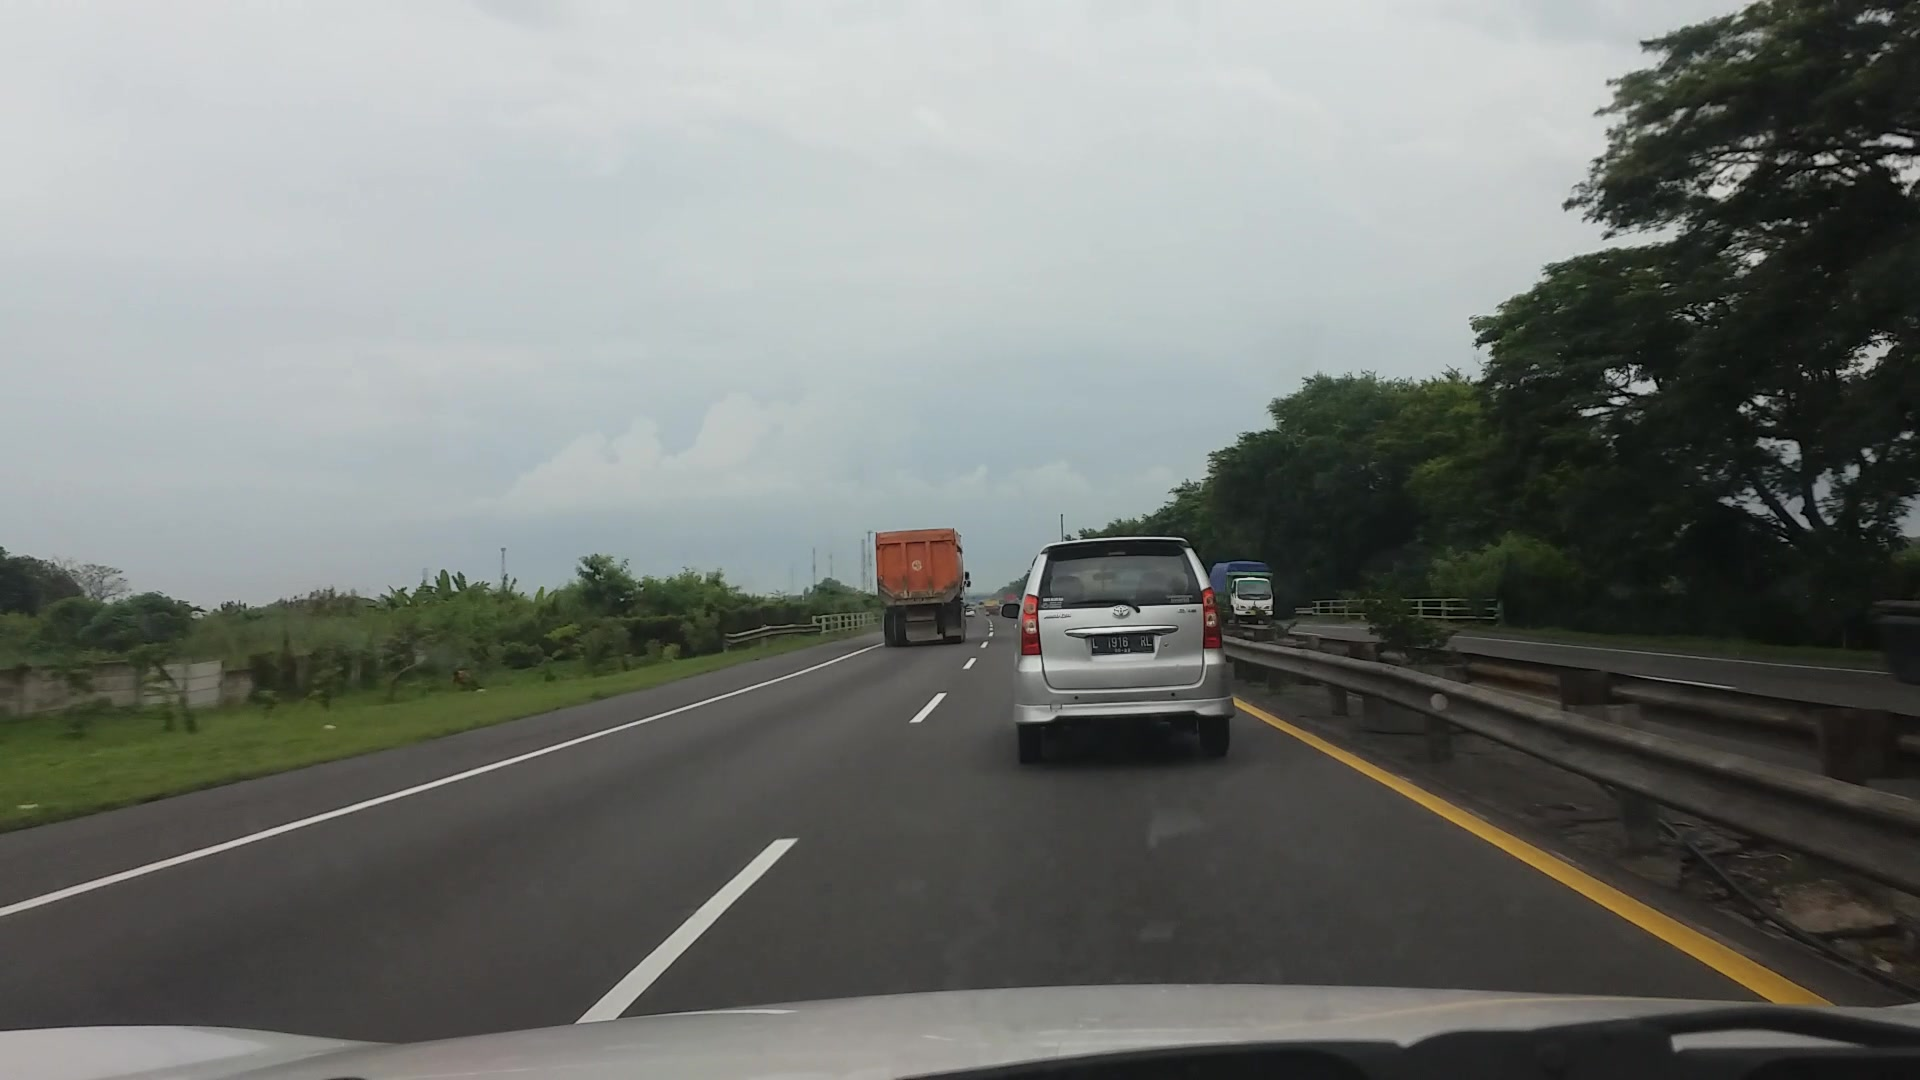plate_positive: (1091, 634, 1154, 655)
